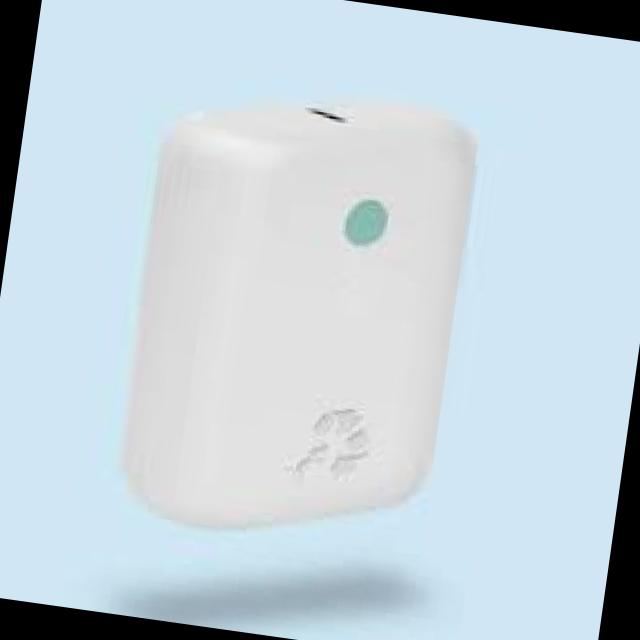power_bank: (108, 70, 491, 566)
